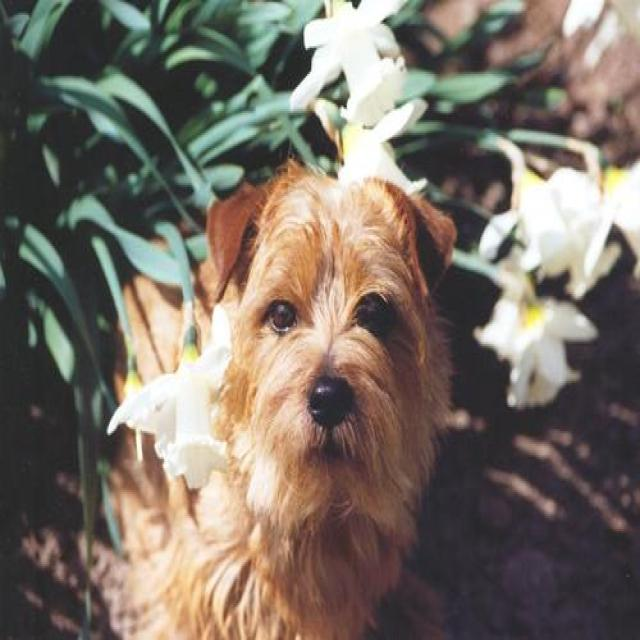dogs: (114, 138, 454, 632)
